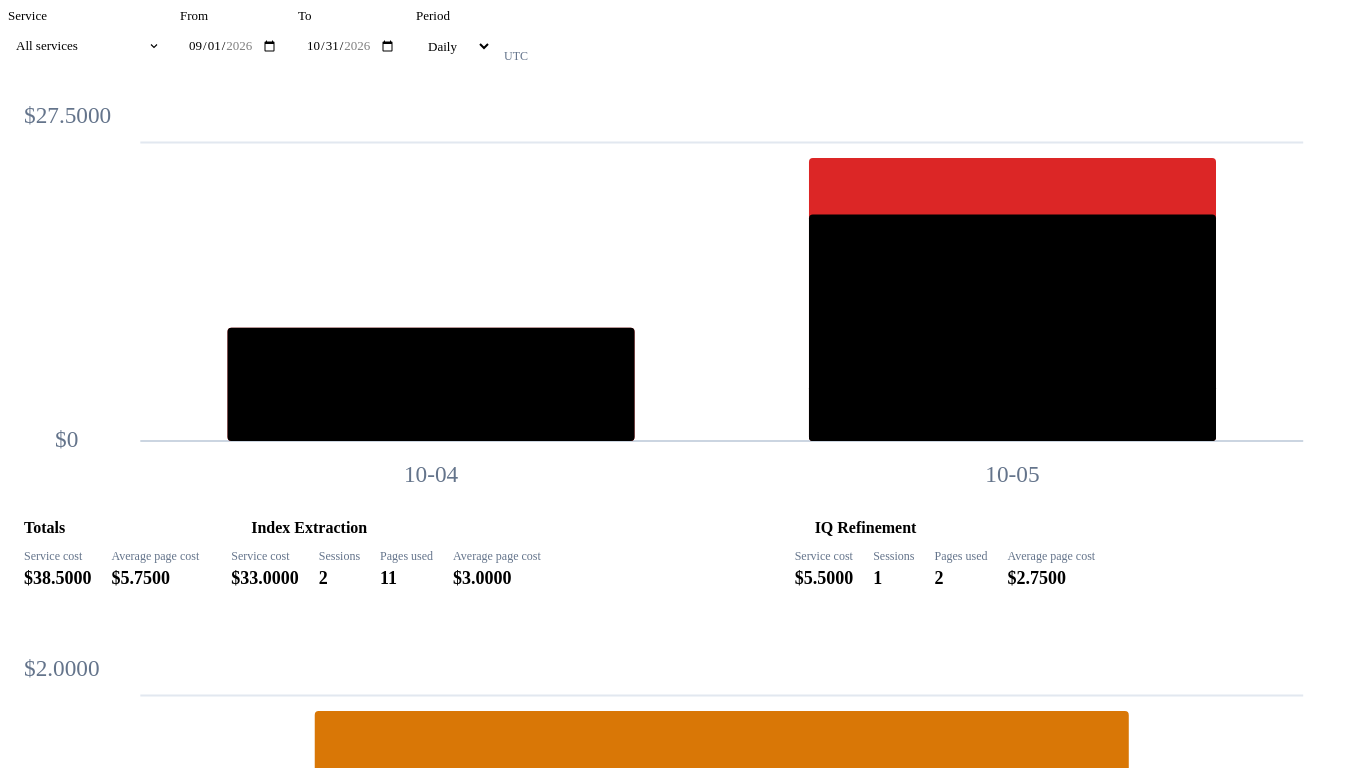
Test: preserves distinct sessions, pages, weighted averages, UTC date limits and weekly buckets
The image size is (1366, 768).
Expected: the text "2" next to "33.0000" is shown, [319,568,328,588]
Expected: the text "11" is shown, [380,568,397,588]
Type "2026-10-05" into the date field labelled "From" at [233, 46], box [180,28,286,64]
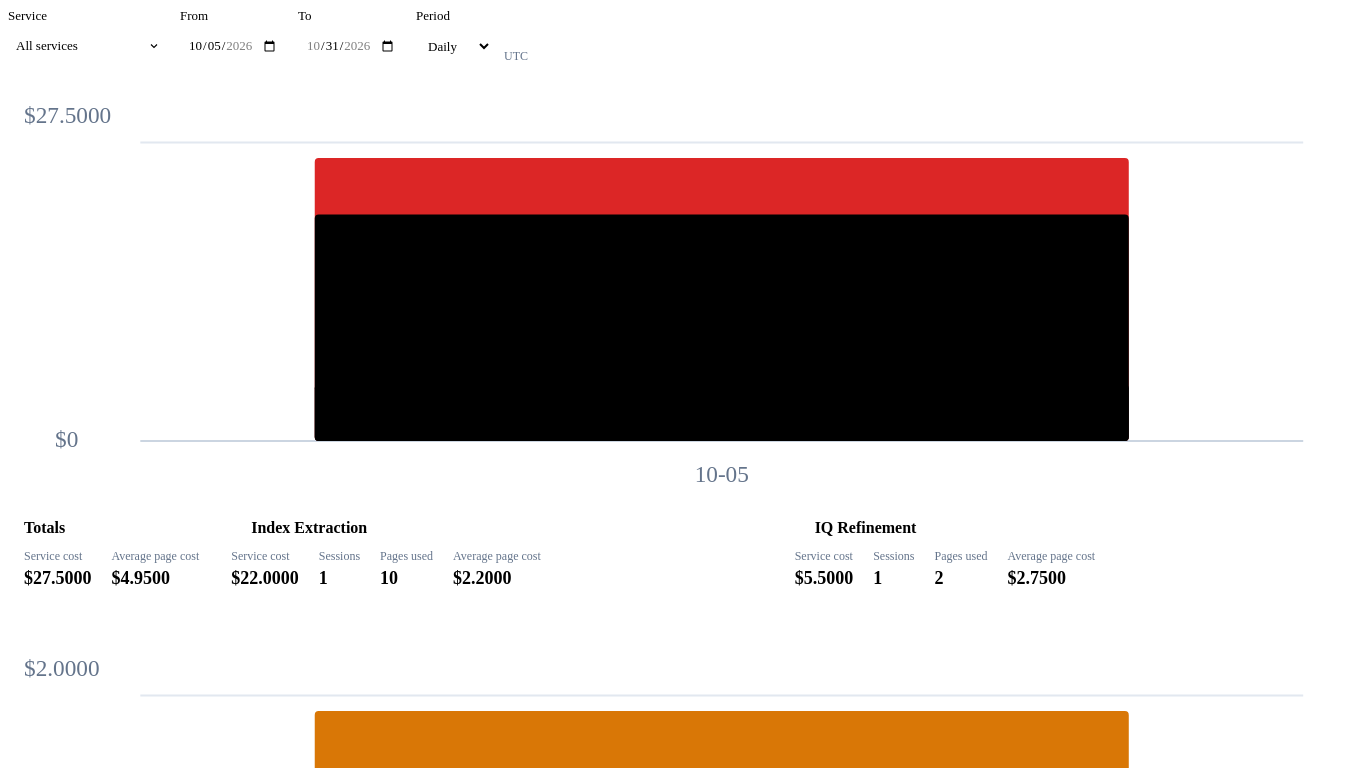
Expected: the text "1" next to "22.0000" is shown, [319,568,328,588]
Expected: the text "$22.0000" is shown, [231,568,299,589]
Expected: the text "$2.2000" is shown, [453,568,512,588]
Select "Weekly" in the dropdown labelled "Period" at [454, 46], box [416,28,492,64]
(page scrolled)
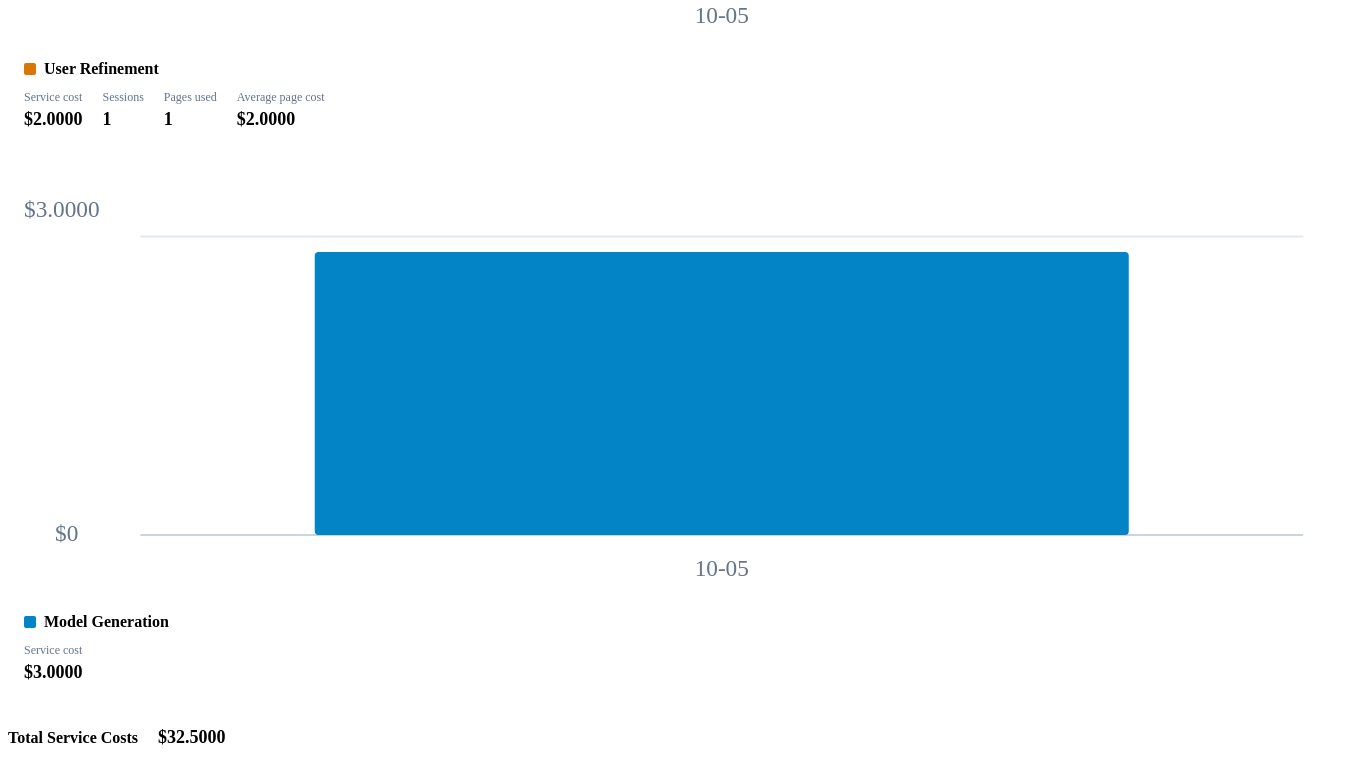
Expected: the picture named "Model Generation weekly cost chart" is shown, [24,190,1342,597]
